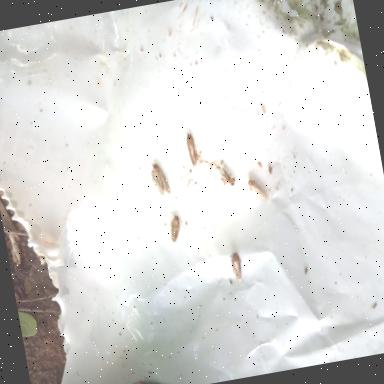pbw: (165, 206, 187, 243), (150, 160, 170, 196), (182, 130, 200, 166), (214, 160, 234, 188), (247, 177, 268, 202), (228, 251, 244, 283)
